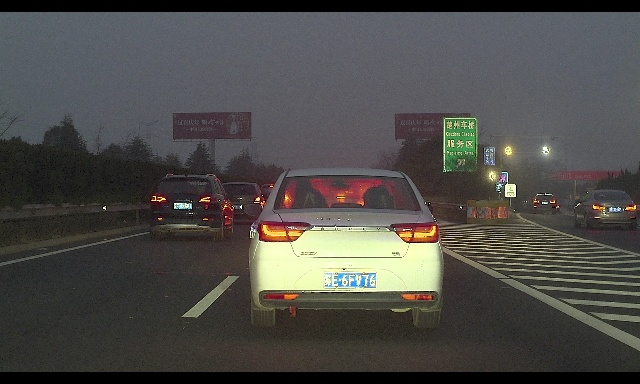car: (242, 168, 444, 328), (149, 173, 236, 241), (573, 189, 638, 231), (216, 182, 267, 224), (532, 193, 557, 215)
